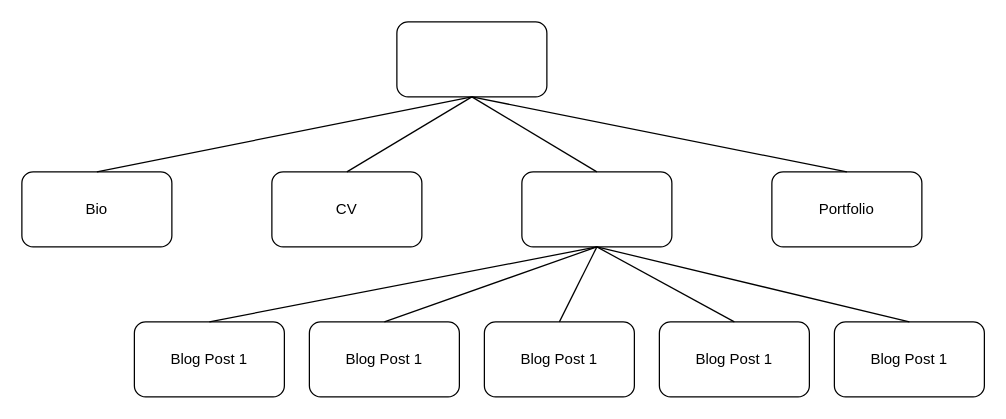
Some shapes in this 1006 by 419 pixel diagram are drawn without their labels. Here are the shapes that lost their labels. From the top down, the box of each, then its label:
(396, 21, 547, 97): Home
(521, 171, 672, 247): Blog
